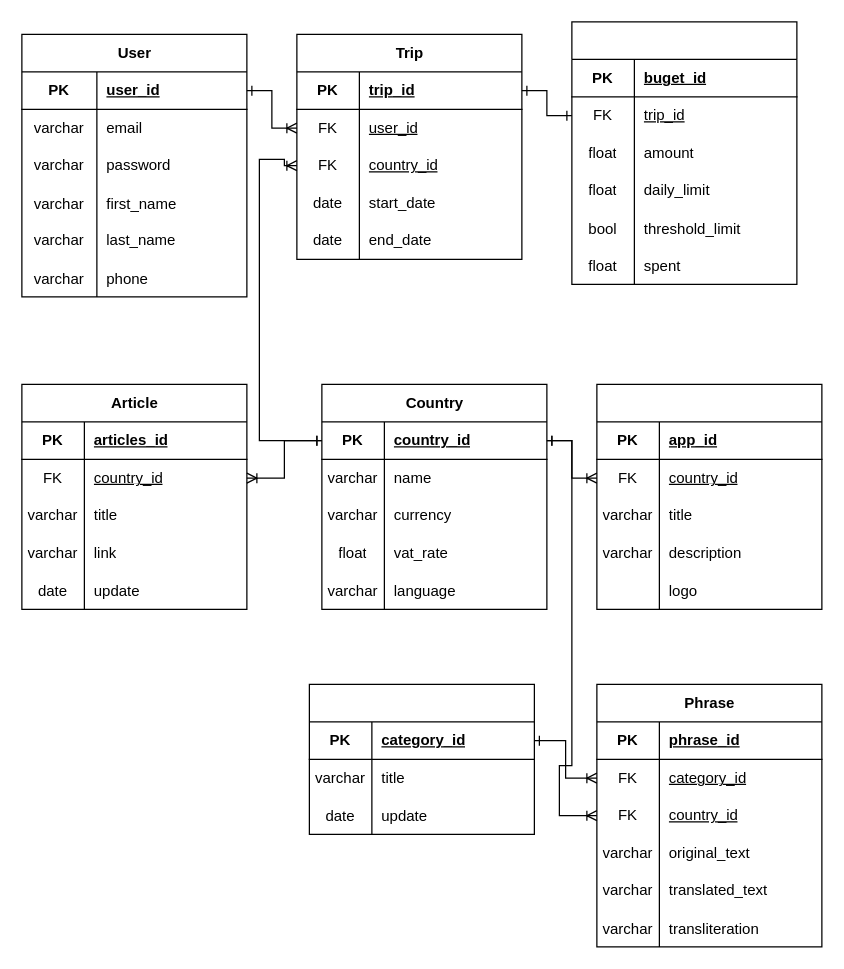
This 844x969 diagram has some shape labels left out. Here are the shapes that lost their labels. From the top down, the box of each, then its label:
(571, 21, 797, 284): Budget
(596, 383, 822, 609): Local_app
(308, 683, 534, 834): Phrase_category
